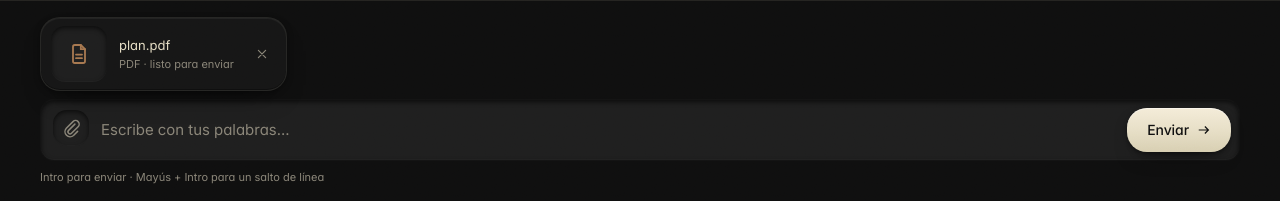
it: Composer attachments › sends text and attachment together, then clears both
Earlier steps of the test are not shown.
Type "Revisa este plan" into the text box named "Escribe tu mensaje al coach".
click(608, 130); type("Revisa este plan")  # box [101,108,1115,152]
Then press Enter
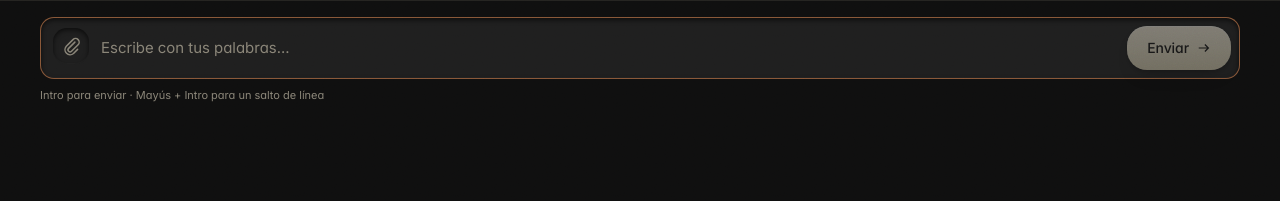
Expected: the text box named "Escribe tu mensaje al coach" is empty, [101,26,1115,70]
Result: the text "plan.pdf" is gone
